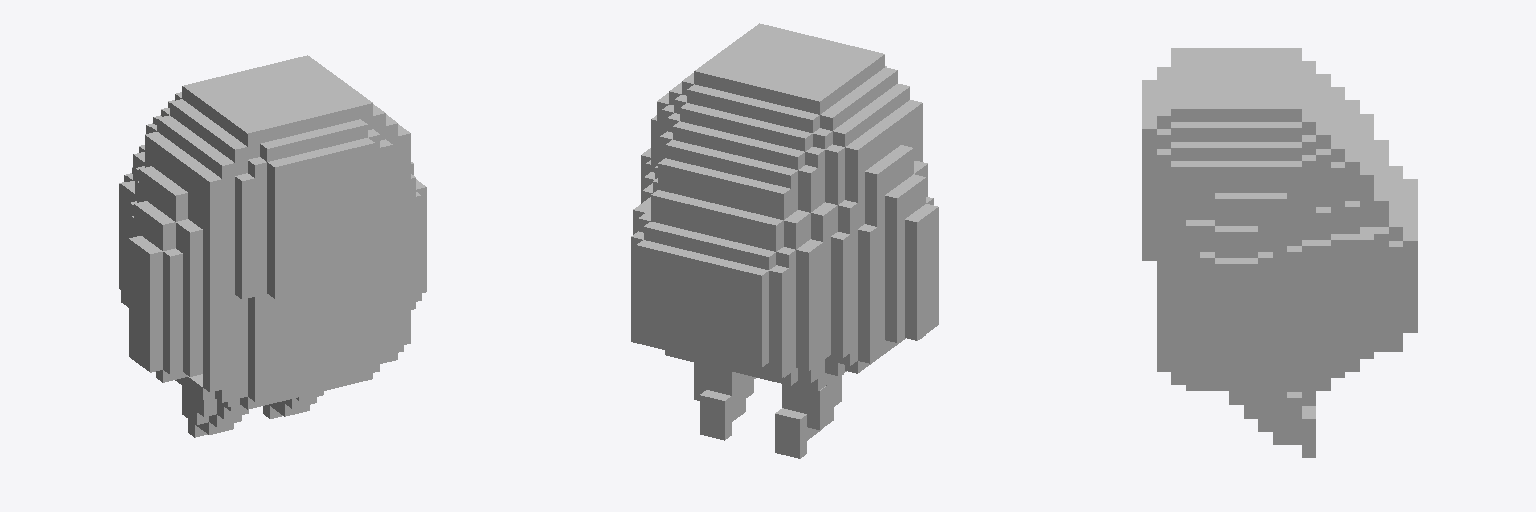
Rendered from player body.obj.
3 renders of one model, left to right at view 1: azimuth 30°, elevation 25°; view 2: azimuth 150°, elevation 25°; view 3: azimuth 270°, elevation 25°, orthographic.
Visible parts, largest first — view 1: object 1; view 2: object 1; view 3: object 1.
Boxes of the visible parts, <box> form: object 1: <box>119,55,426,437</box>; object 1: <box>631,23,938,458</box>; object 1: <box>1142,48,1417,457</box>.
Bounding box in the file's own units: 2.2 × 2.7 × 1.9.